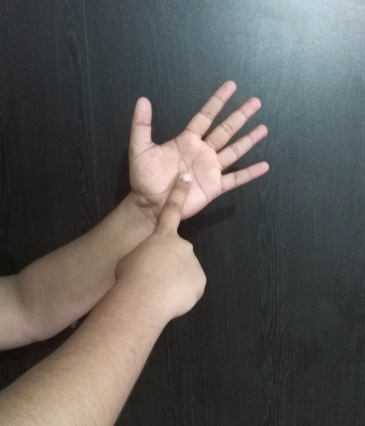oo: (127, 78, 273, 311)
